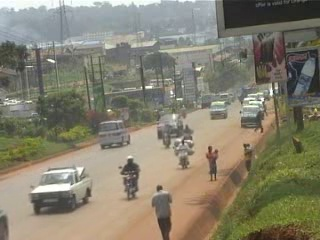Car: (152, 111, 189, 139), (0, 206, 13, 239)
Motorcycle: (114, 157, 146, 200), (172, 140, 197, 168), (176, 124, 198, 144), (159, 125, 173, 151), (178, 104, 188, 119)
